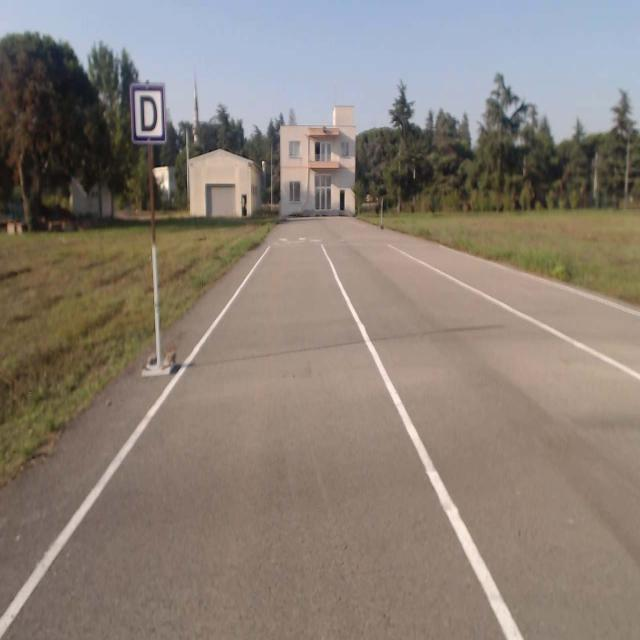durak: (130, 84, 166, 142)
